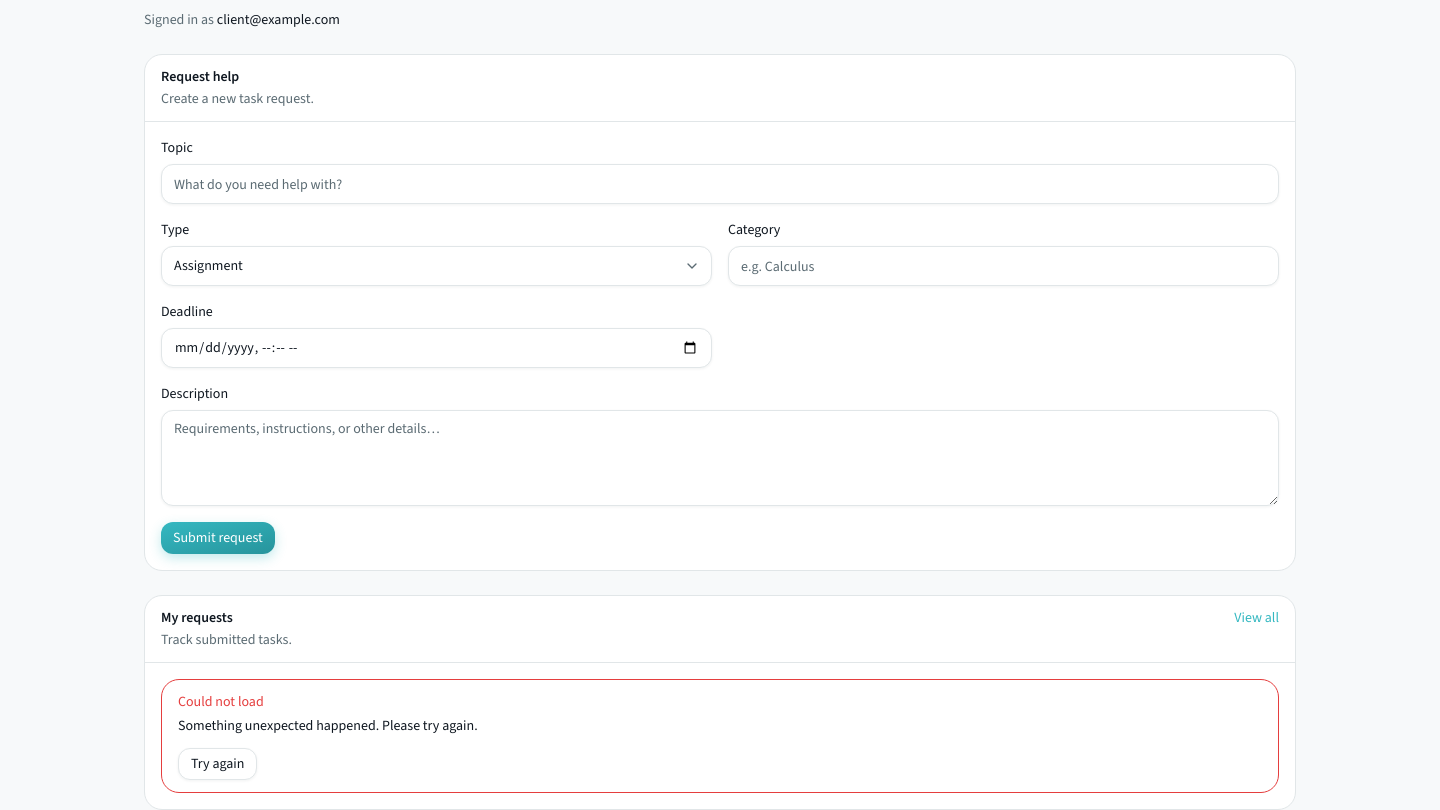
PortalDashboardPage › shows an empty preview and a retryable error
This screenshot has width=1440, height=810.
(page scrolled)
Click the button "Try again" at coordinates (218, 764), box [178,748,258,780]
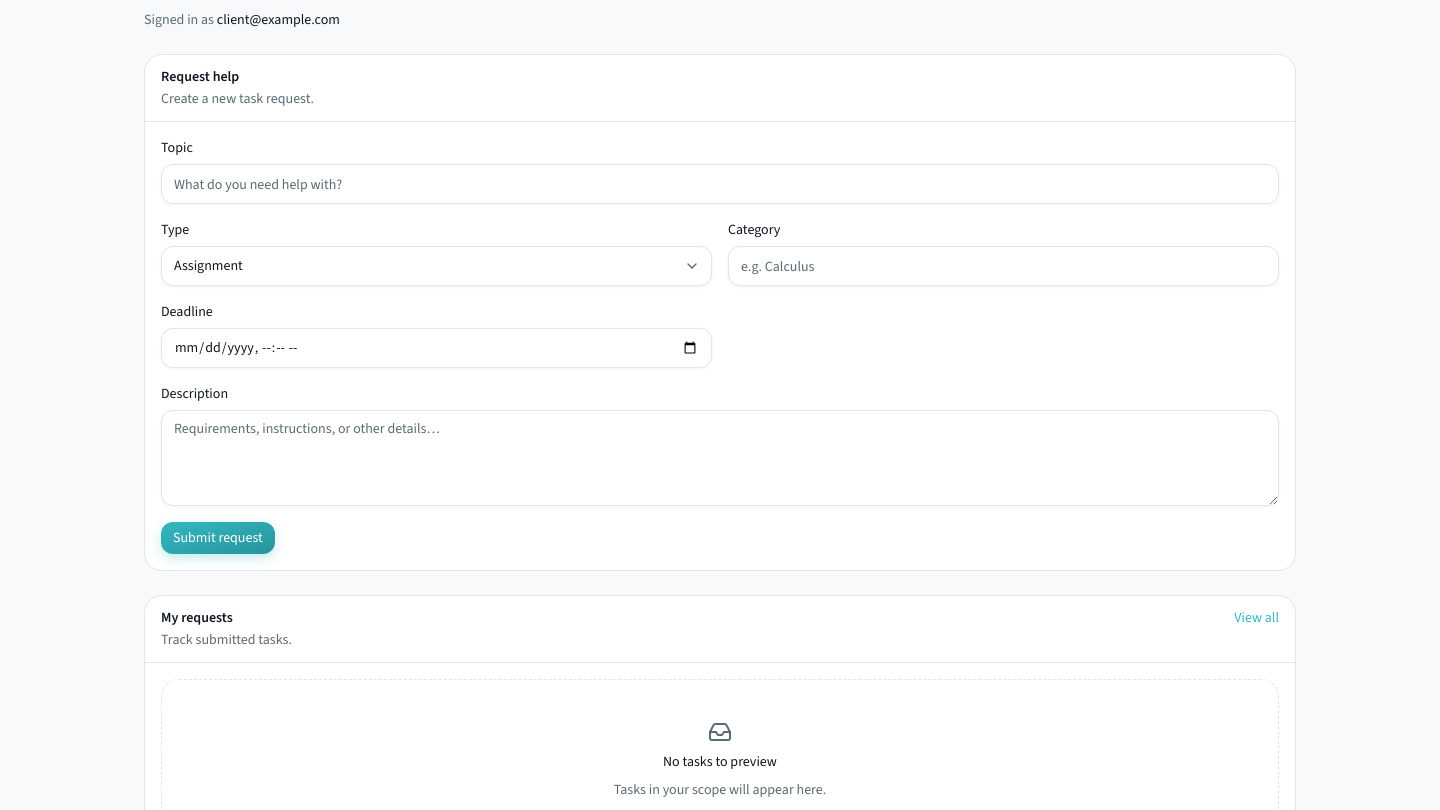
Now the text "No tasks to preview" is shown, box [663,752,777,772]
